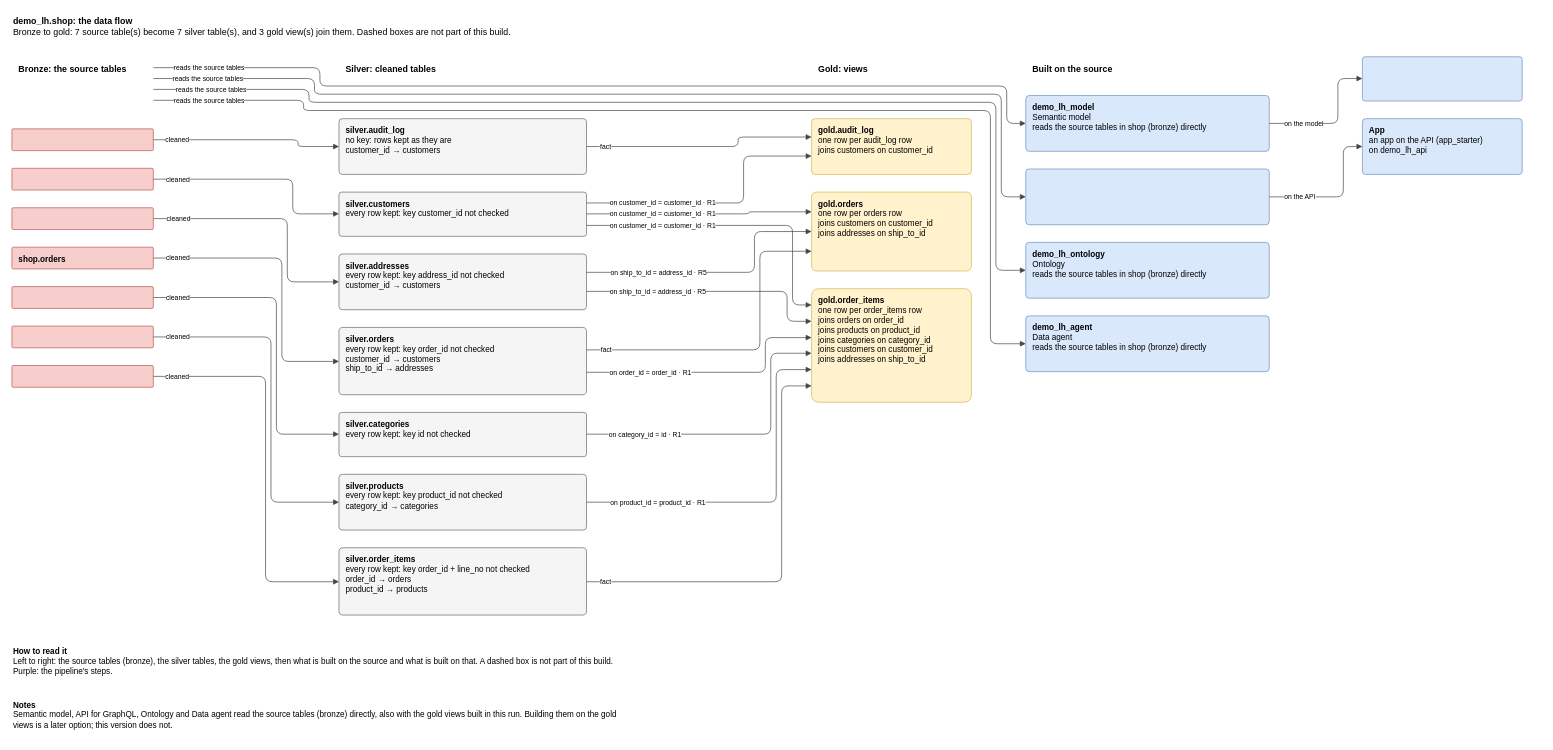
Image size: 1553x750. Some labels were removed from this diagram. Each missing label, with the centre of its shape:
"demo_lh_api API for GraphQL reads the source tables in shop (bronze) directly" belongs at [1147,196].
"demo_lh_report Report on demo_lh_model" belongs at [1442,78].
"shop.addresses" belongs at [82,218].
"shop.audit_log" belongs at [82,139].
"shop.categories" belongs at [82,297].
"shop.customers" belongs at [82,179].
"shop.order_items" belongs at [82,376].
"shop.products" belongs at [82,336].
